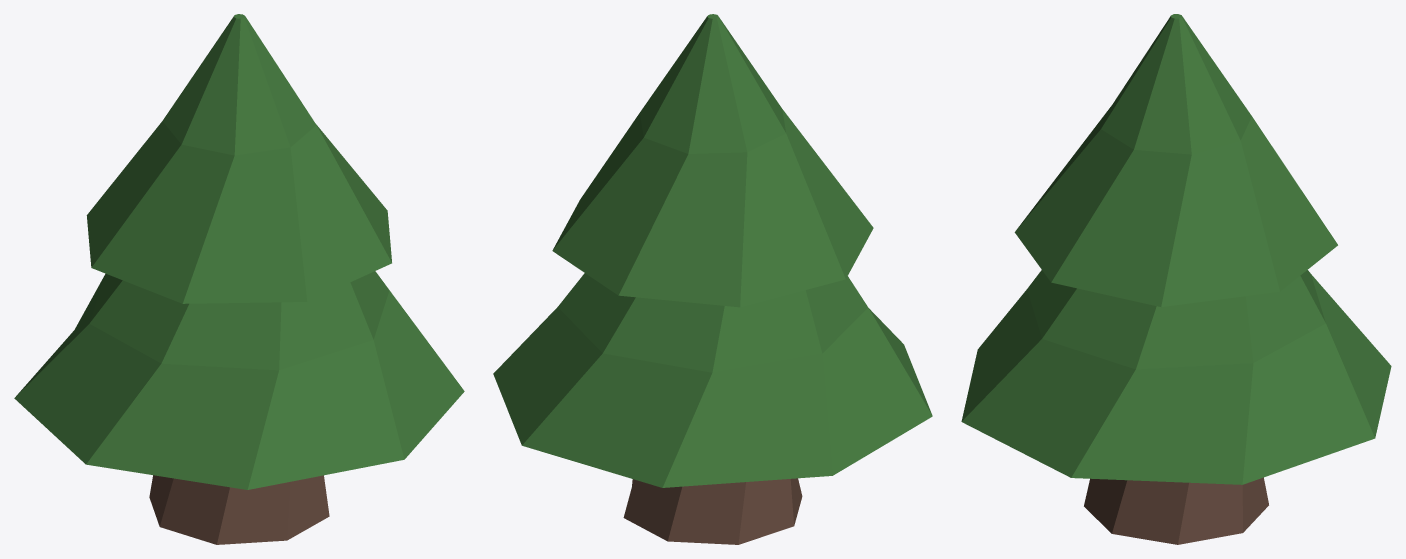
File: PineTree_Sapling.fbx
The picture shows the model from 3 angles, left to right: view 1: azimuth 30°, elevation 25°; view 2: azimuth 150°, elevation 25°; view 3: azimuth 270°, elevation 25°; orthographic projection.
Visible parts, largest first — view 1: Cylinder; view 2: Cylinder; view 3: Cylinder.
Boxes of the visible parts, <box> form: Cylinder: <box>14,14,464,544</box>; Cylinder: <box>493,14,932,544</box>; Cylinder: <box>961,14,1391,544</box>.
Bounding box in the file's own units: 670 × 841 × 670.
